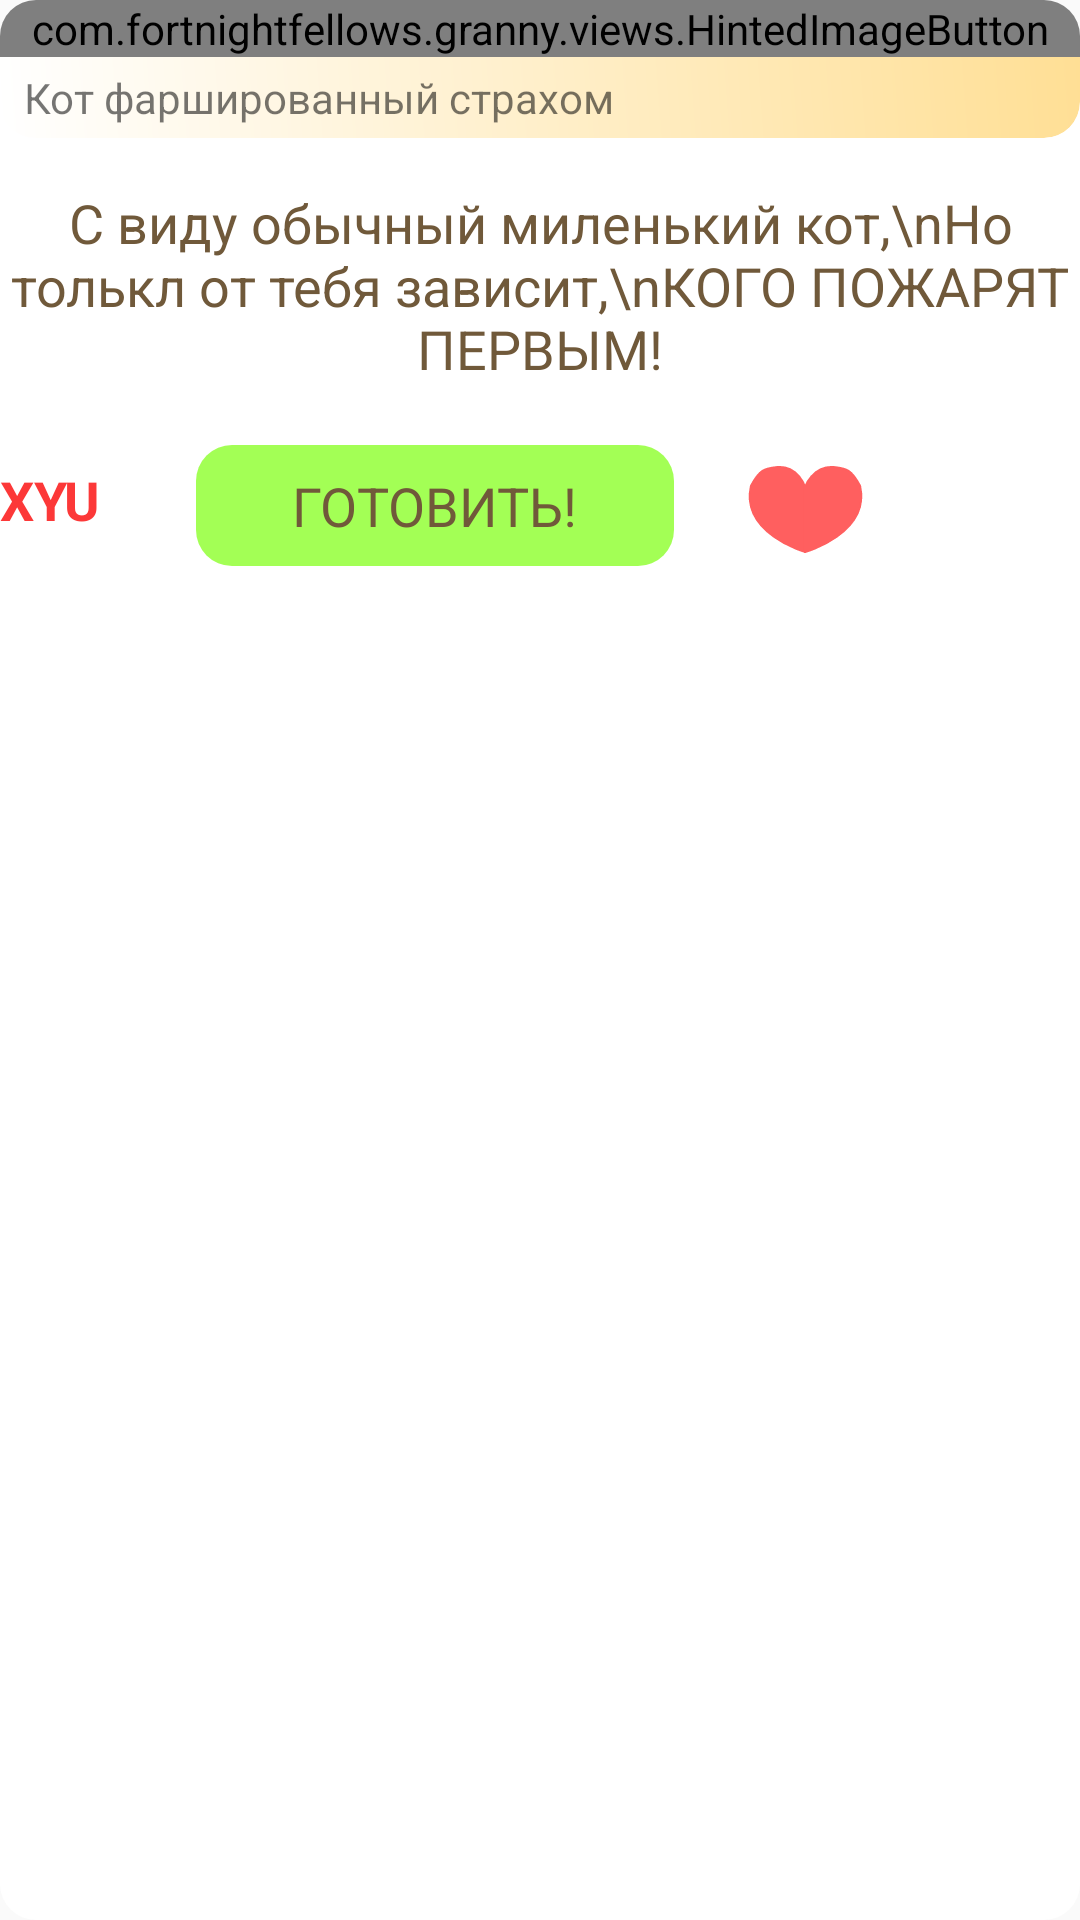

Point at icon controls on the screen. Image size 1080px×1920px, points as (x=x, y=y).
heart: (x=805, y=509)
